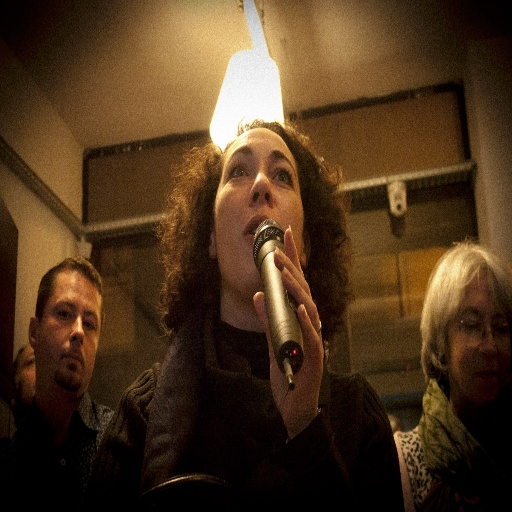hand: (246, 246, 318, 373)
